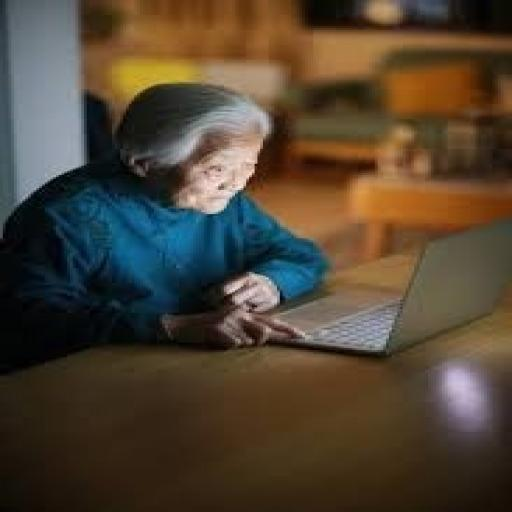using_laptop: (258, 218, 510, 357)
